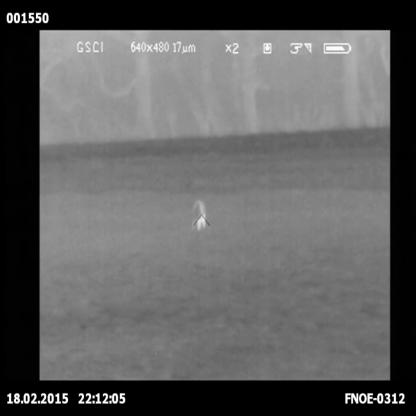rehkitze: (191, 200, 211, 236)
